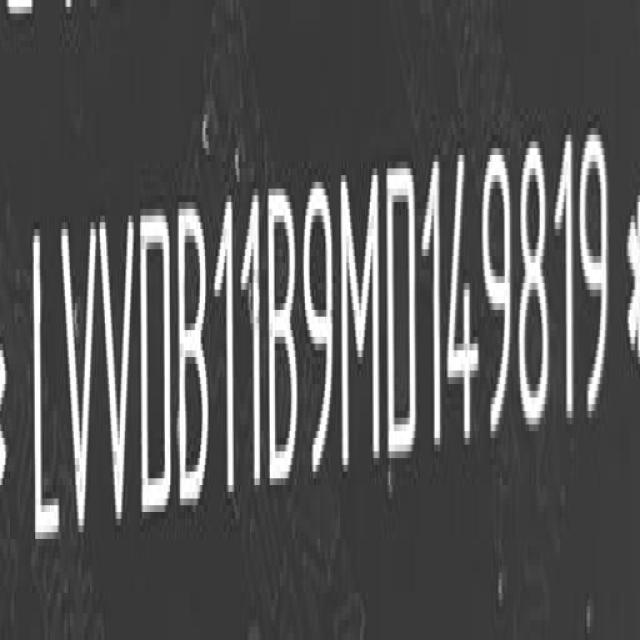1: (240, 189, 261, 505), (553, 131, 574, 432), (423, 152, 443, 462), (215, 197, 234, 515)
4: (449, 152, 482, 456)
8: (518, 137, 550, 441)
9: (302, 177, 337, 488), (482, 147, 514, 449), (581, 132, 614, 422)
B: (179, 201, 212, 519), (269, 188, 300, 498)
D: (137, 206, 172, 530), (388, 159, 418, 469)
L: (32, 215, 63, 556)
M: (342, 172, 381, 483)
V: (100, 207, 138, 539), (61, 217, 96, 549)
